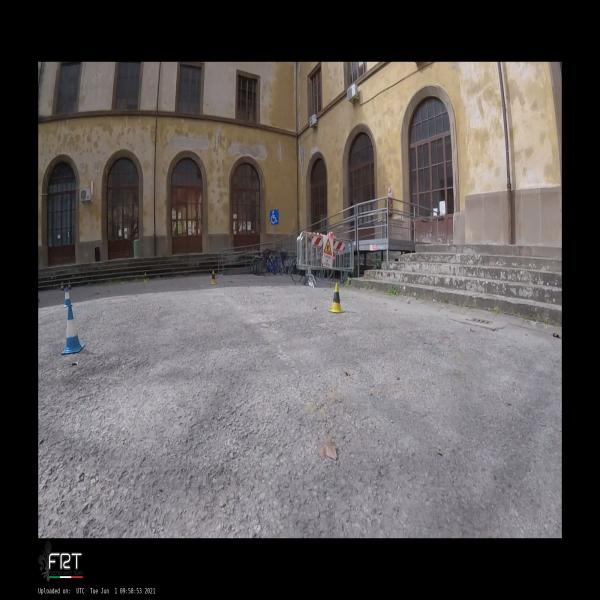blue_cone: (62, 304, 85, 354), (64, 287, 72, 307), (38, 294, 40, 303)
large_orange_cone: (68, 280, 72, 290), (61, 282, 64, 290)
yellow_cone: (328, 282, 345, 313), (210, 271, 218, 284), (144, 272, 148, 283)
